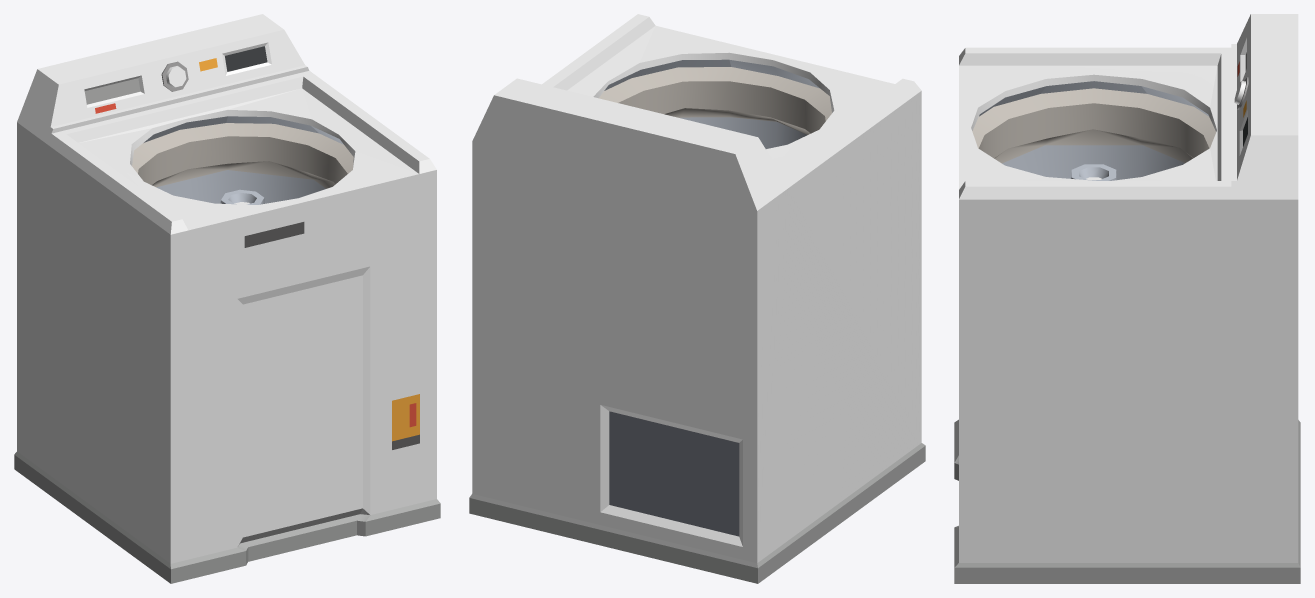
The model's file is SM_Prop_Laundry_WasherTop_01.obj.
3 views of the same model, side by side, from view 1: azimuth 30°, elevation 25°; view 2: azimuth 150°, elevation 25°; view 3: azimuth 270°, elevation 25° (orthographic). The views are drawn at different scales.
Visible parts, largest first — view 1: SM_Prop_Laundry_WasherTop_01_Mat_SwatchOverlay_PolygonTown_01_In; view 2: SM_Prop_Laundry_WasherTop_01_Mat_SwatchOverlay_PolygonTown_01_In; view 3: SM_Prop_Laundry_WasherTop_01_Mat_SwatchOverlay_PolygonTown_01_In.
Part boxes in pixels (x1,y1,x2,y2): SM_Prop_Laundry_WasherTop_01_Mat_SwatchOverlay_PolygonTown_01_In: (14,14,440,583); SM_Prop_Laundry_WasherTop_01_Mat_SwatchOverlay_PolygonTown_01_In: (469,14,925,583); SM_Prop_Laundry_WasherTop_01_Mat_SwatchOverlay_PolygonTown_01_In: (954,14,1300,583).
Bounding box in the file's own units: 1.01 × 1.42 × 1.02.
1 material, 1 textured.
